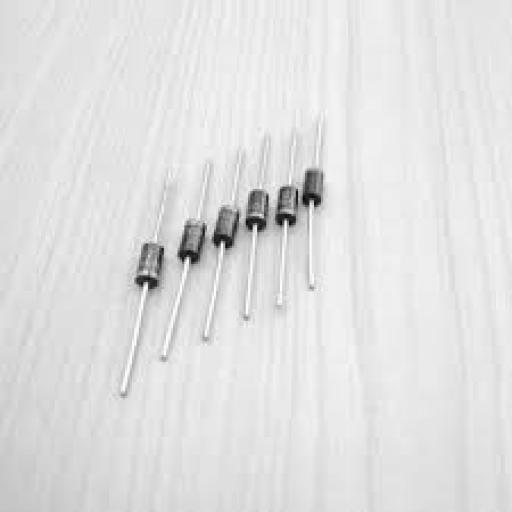DIODE: (116, 107, 328, 396), (126, 228, 198, 320), (168, 205, 234, 291), (292, 158, 340, 230), (202, 200, 251, 269), (266, 175, 308, 243), (243, 192, 279, 242)
